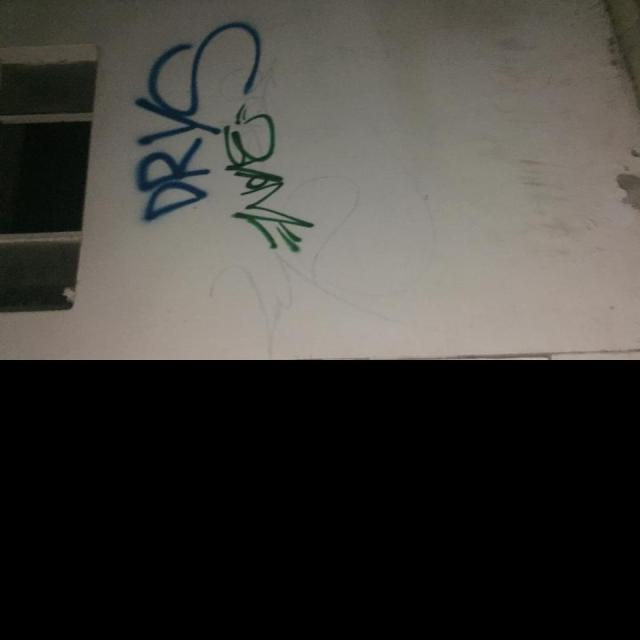nonspitting: (134, 20, 262, 222), (224, 102, 314, 254)
